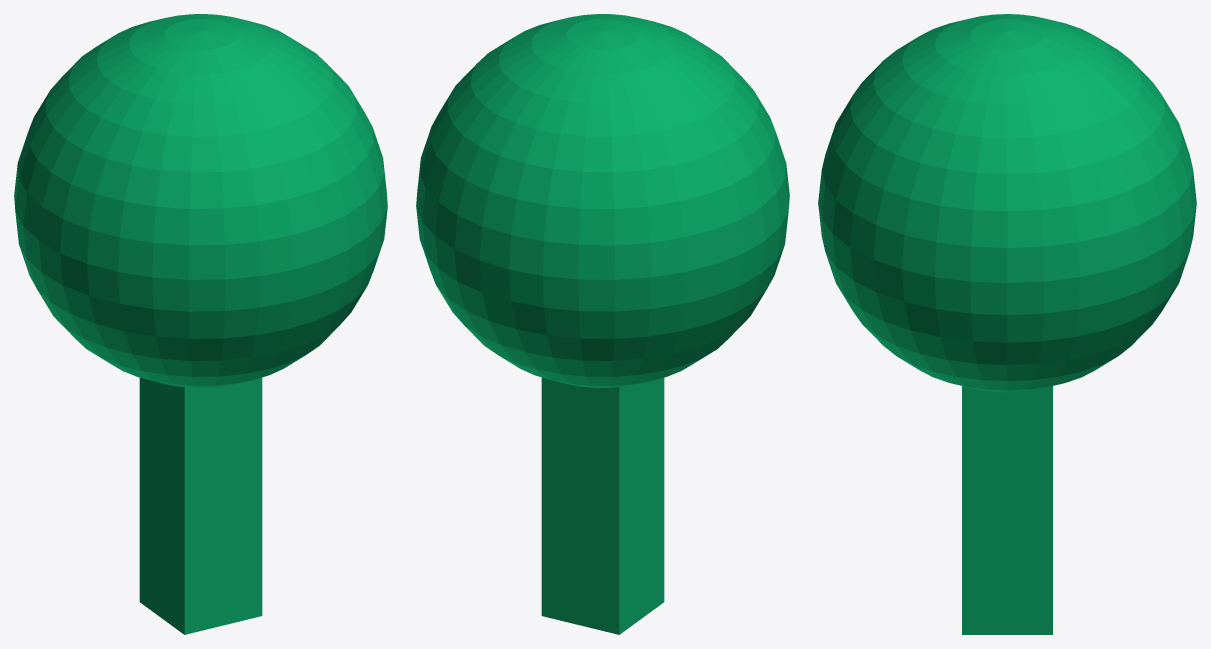
Rendered from Respawn.fbx.
3 renders of one model, left to right at view 1: azimuth 30°, elevation 25°; view 2: azimuth 150°, elevation 25°; view 3: azimuth 270°, elevation 25°, orthographic.
Parts seen in each view (by area): view 1: 立方体; view 2: 立方体; view 3: 立方体.
Boxes of the visible parts, x1,y1,x2,y2 form: 立方体: (14, 14, 387, 634); 立方体: (416, 14, 789, 634); 立方体: (818, 14, 1196, 634).
Size of the model in its own units: 100 by 170 by 100.
1 material, 1 textured.
